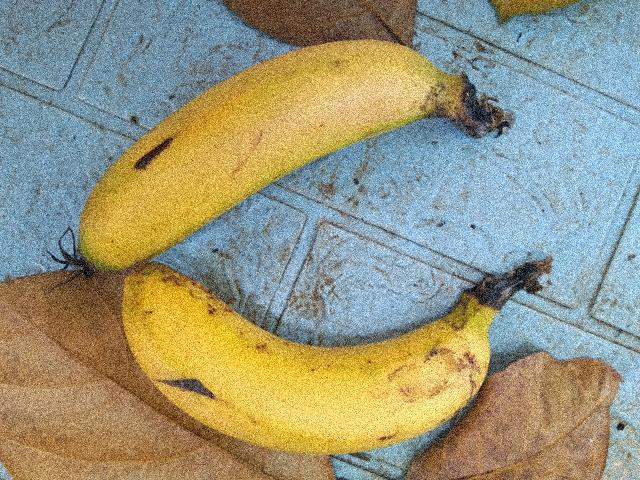freshripe: (54, 37, 402, 259)
ripe: (124, 262, 512, 479)
